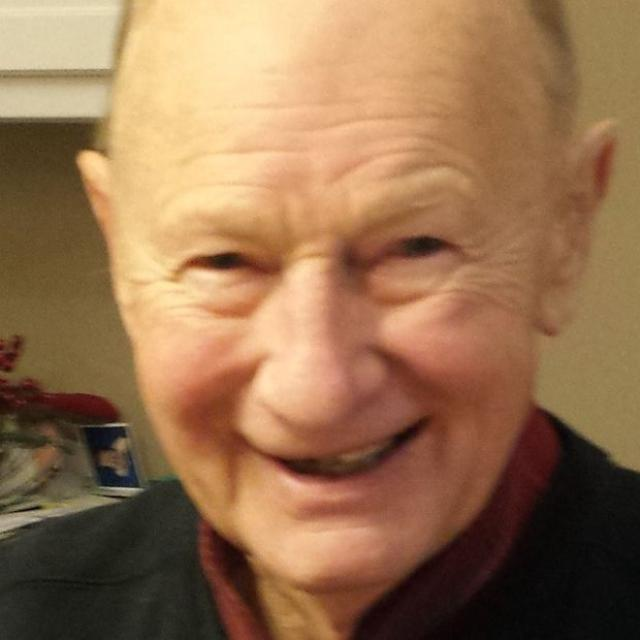Normal: (103, 3, 561, 588)
